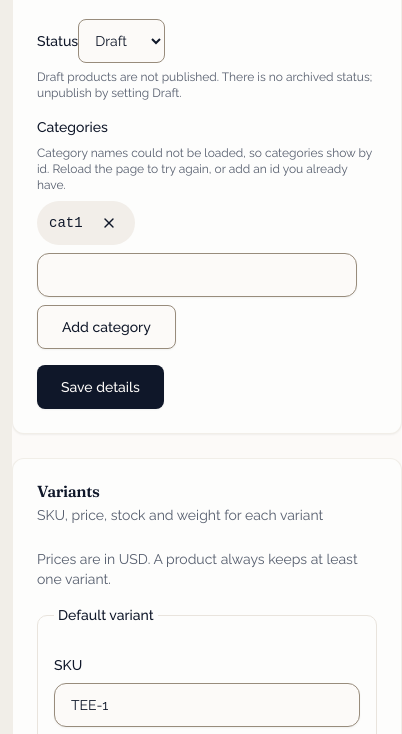
Scenario: ProductEditor › shows a server error from saving details
This screenshot has width=402, height=734.
(page scrolled)
Click the button "Save details" at coordinates (100, 387), box 37,365 -> 164,409
(page scrolled)
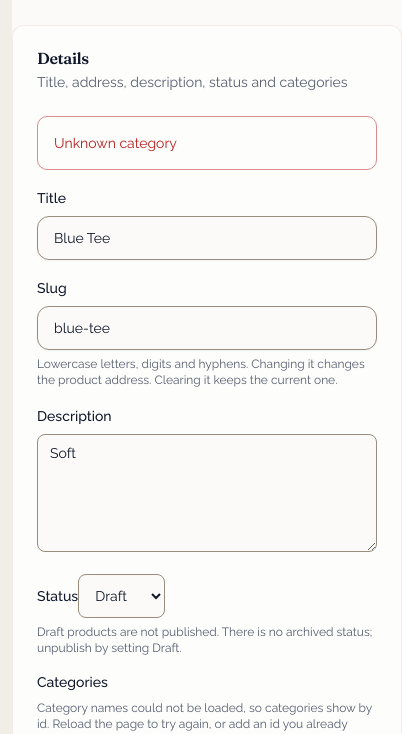
Expected: the text "Unknown category" is shown, 54,135 -> 177,151
